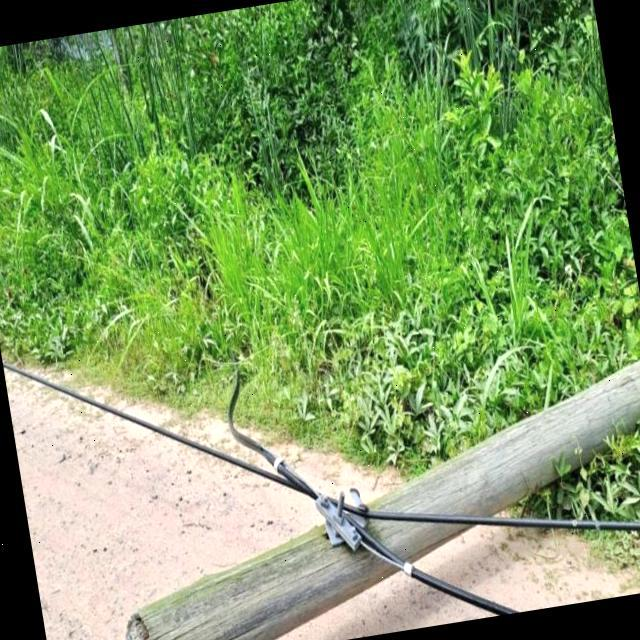Broken Pole: (125, 357, 640, 640)
